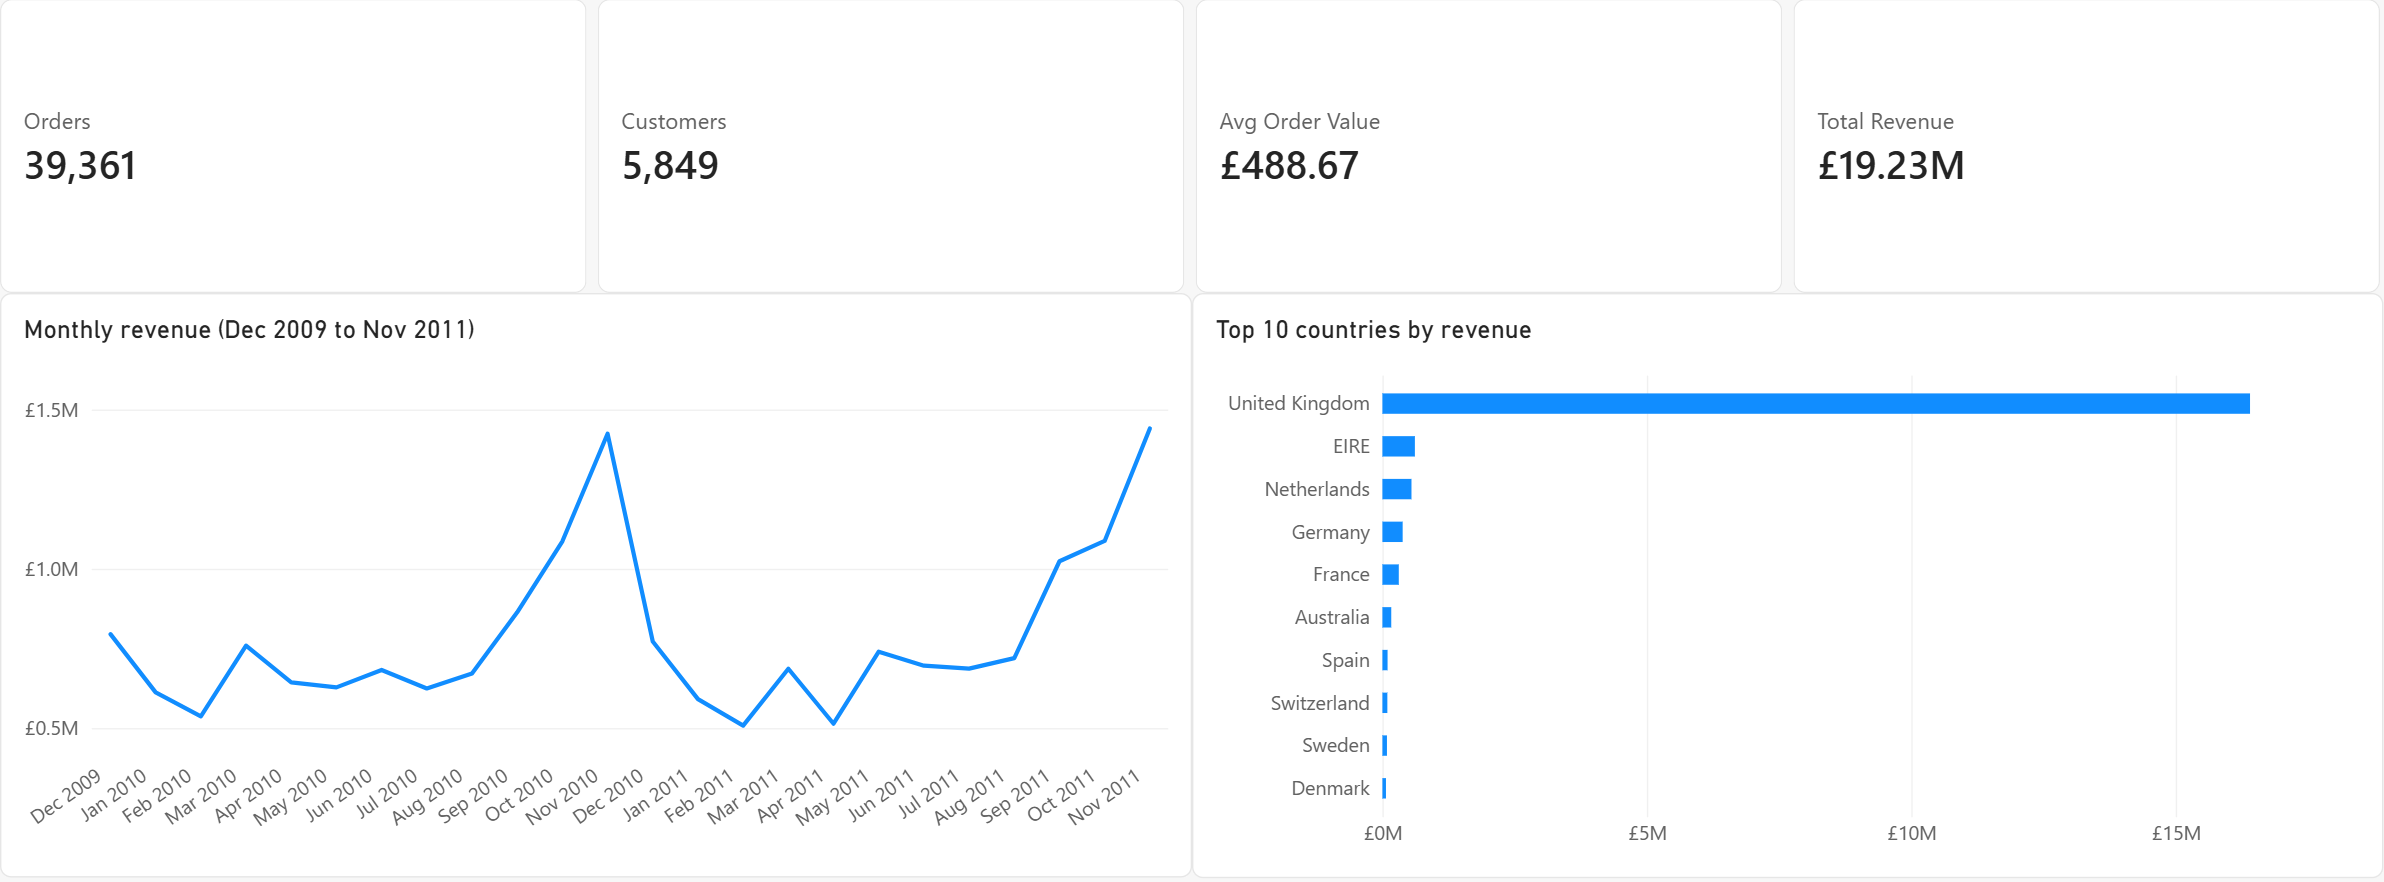

This screenshot's page, from the dashboard's own definition file:
{"tool":"powerbi","page":{"name":"Overview","canvas":[1920,1080],"ordinal":0},"visuals":[{"type":"cardVisual","fields":{"Data":["invoice_lines.Orders","invoice_lines.Customers","invoice_lines.Avg Order Value","invoice_lines.Total Revenue"]},"box":[0,0,1702.9,210],"z":0},{"type":"lineChart","title":"Monthly revenue (Dec 2009 to Nov 2011)","fields":{"Category":["Date.Month"],"Y":["invoice_lines.Total Revenue"]},"box":[0,210,851.2,417.5],"z":1000},{"type":"clusteredBarChart","title":"Top 10 countries by revenue","fields":{"Category":["invoices.country"],"Y":["invoice_lines.Total Revenue"]},"box":[851.7,210,851,418],"z":2000}]}

Visuals, with their boxes on the page's 1920x1080 design canvas (x1, y1, x2, y2). These are canvas units, not pixel positions in the 2384x882 screenshot, which may show the page scaled, cropped or inside an application window:
cardVisual - invoice_lines.Orders x invoice_lines.Customers: 0, 0, 1703, 210
"Monthly revenue (Dec 2009 to Nov 2011)" lineChart: 0, 210, 851, 628
"Top 10 countries by revenue" clusteredBarChart: 852, 210, 1703, 628
